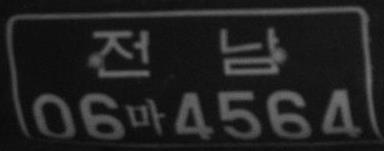0: (33, 92, 75, 139)
4: (321, 87, 362, 139), (174, 91, 214, 140)
5: (217, 89, 261, 140)
6: (265, 88, 312, 139), (78, 91, 126, 139)
마: (126, 97, 165, 137)
전남_D: (92, 27, 280, 78)
